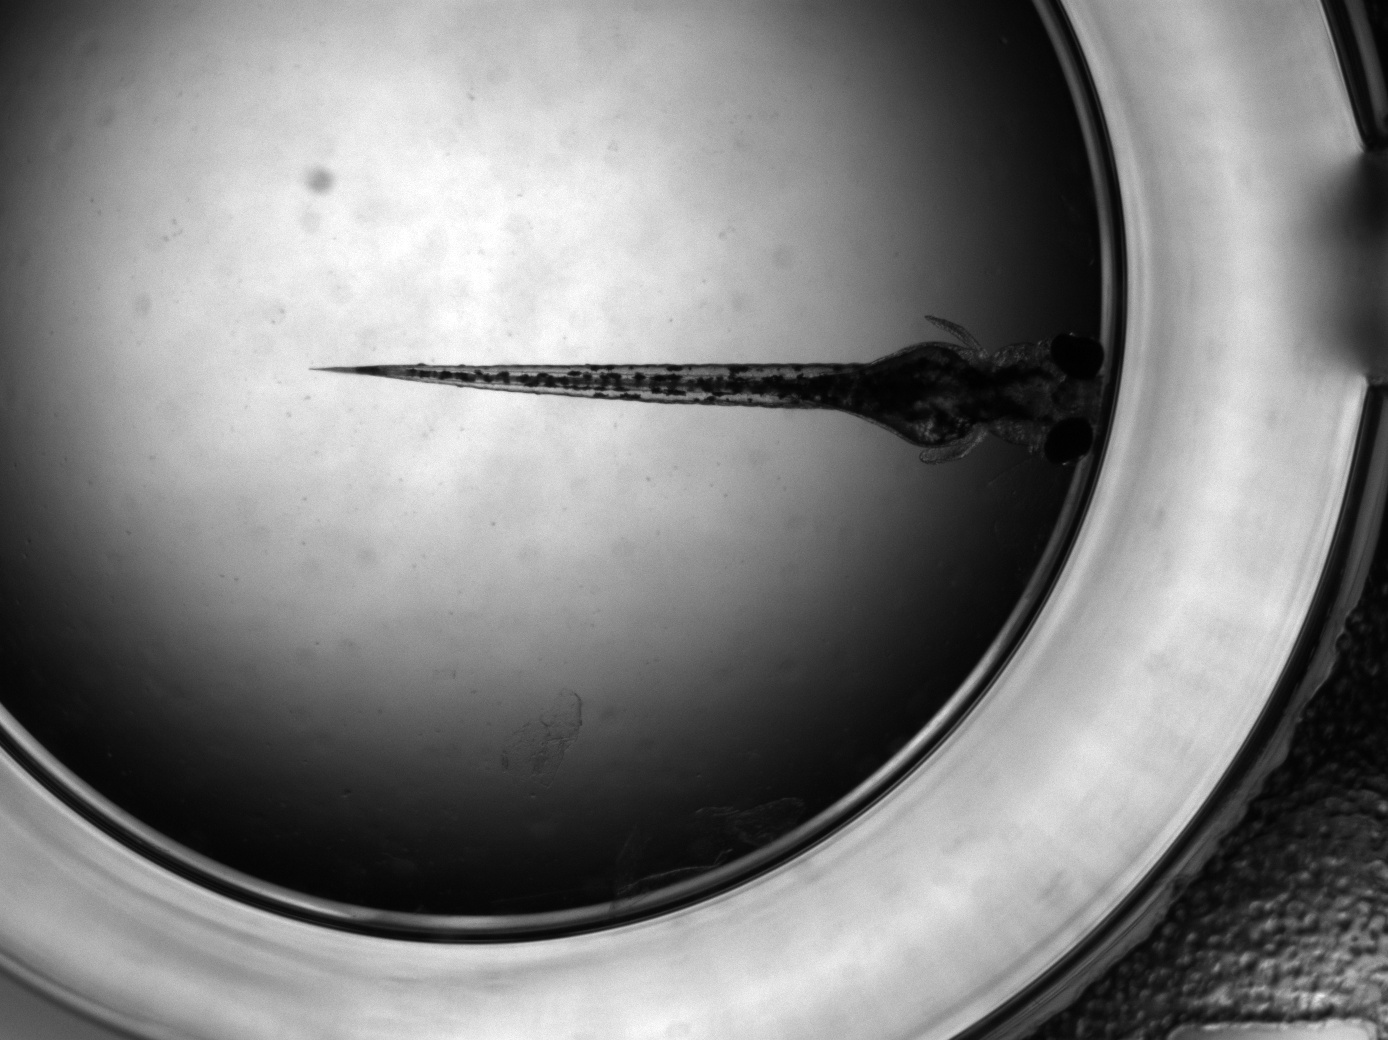embryo: (307, 334, 1106, 465)
eye: (1042, 416, 1093, 465), (1048, 335, 1105, 379)
yolksac: (835, 341, 990, 449)
